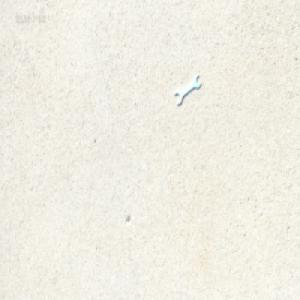Wrench: (174, 73, 201, 105)
